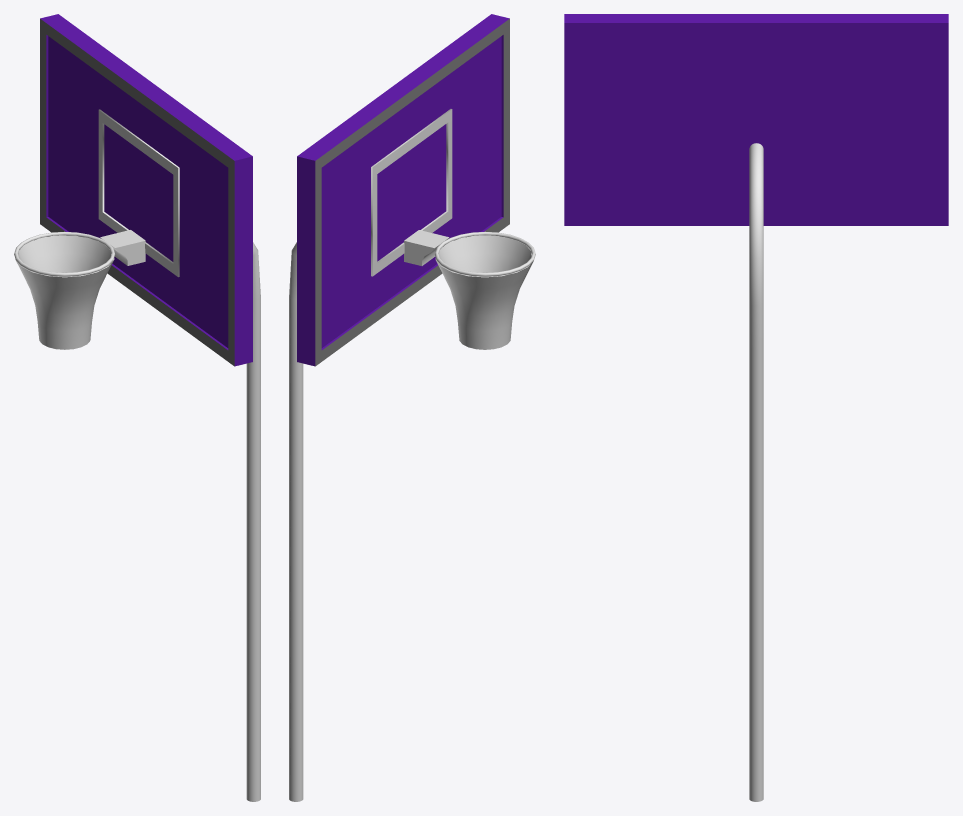
The model's file is BBallNet.fbx.
3 renders of one model, left to right at view 1: azimuth 30°, elevation 25°; view 2: azimuth 150°, elevation 25°; view 3: azimuth 270°, elevation 25°, orthographic.
Parts seen in each view (by area): view 1: Backboard, BBallNet, Net, Backboard_Box, HoopSupport, Hoop; view 2: Backboard, BBallNet, Net, Backboard_Box, HoopSupport, Hoop; view 3: Backboard, BBallNet.
Boxes of the visible parts, <box> form: Backboard: <box>40,14,252,366</box>; BBallNet: <box>246,242,260,801</box>; Net: <box>15,235,114,349</box>; Backboard_Box: <box>98,109,179,277</box>; HoopSupport: <box>100,230,145,265</box>; Hoop: <box>14,231,115,276</box>; Backboard: <box>297,14,509,366</box>; BBallNet: <box>289,242,303,801</box>; Net: <box>435,235,533,349</box>; Backboard_Box: <box>371,109,452,276</box>; HoopSupport: <box>404,230,449,265</box>; Hoop: <box>434,231,535,276</box>; Backboard: <box>564,14,948,225</box>; BBallNet: <box>749,143,763,801</box>.
Bounding box in the file's own units: 130 × 383 × 183.
